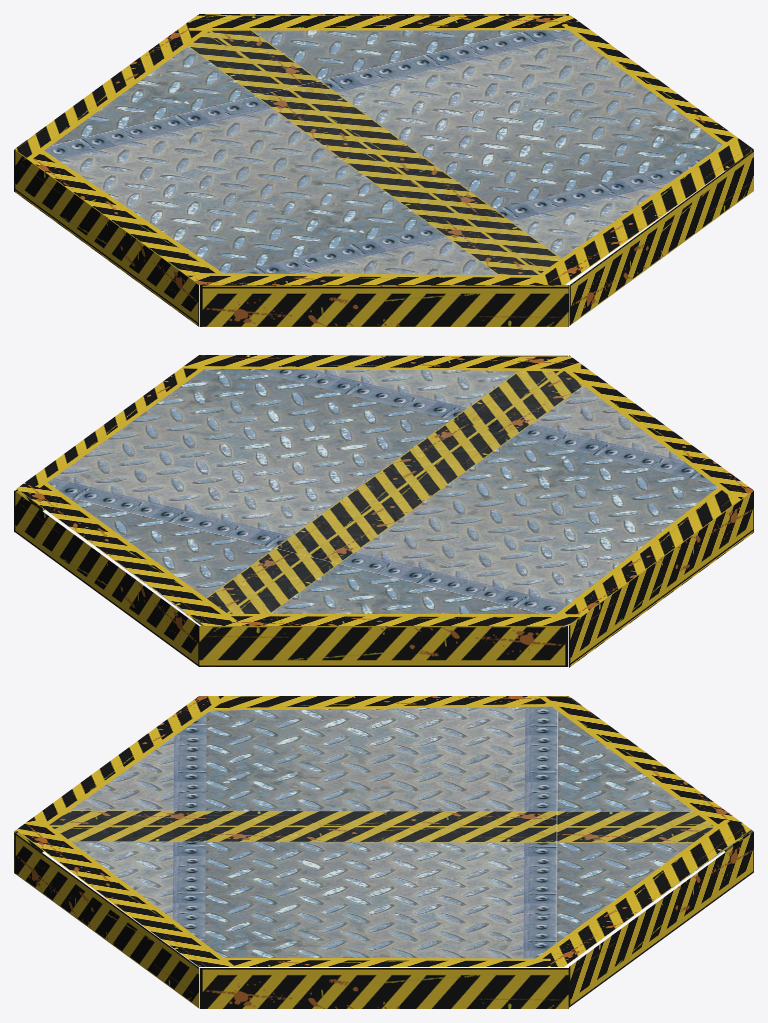
File: escenario1_piso.fbx
3 renders of one model, top to bottom at view 1: azimuth 30°, elevation 25°; view 2: azimuth 150°, elevation 25°; view 3: azimuth 270°, elevation 25°, orthographic.
Parts seen in each view (by area): view 1: SketchUp; view 2: SketchUp; view 3: SketchUp.
Boxes of the visible parts, x1,y1,x2,y2 form: SketchUp: (14,14,753,326); SketchUp: (14,355,753,667); SketchUp: (14,696,753,1008).
Bounding box in the file's own units: 5.47 × 0.396 × 6.31.
1 material, 1 textured.
